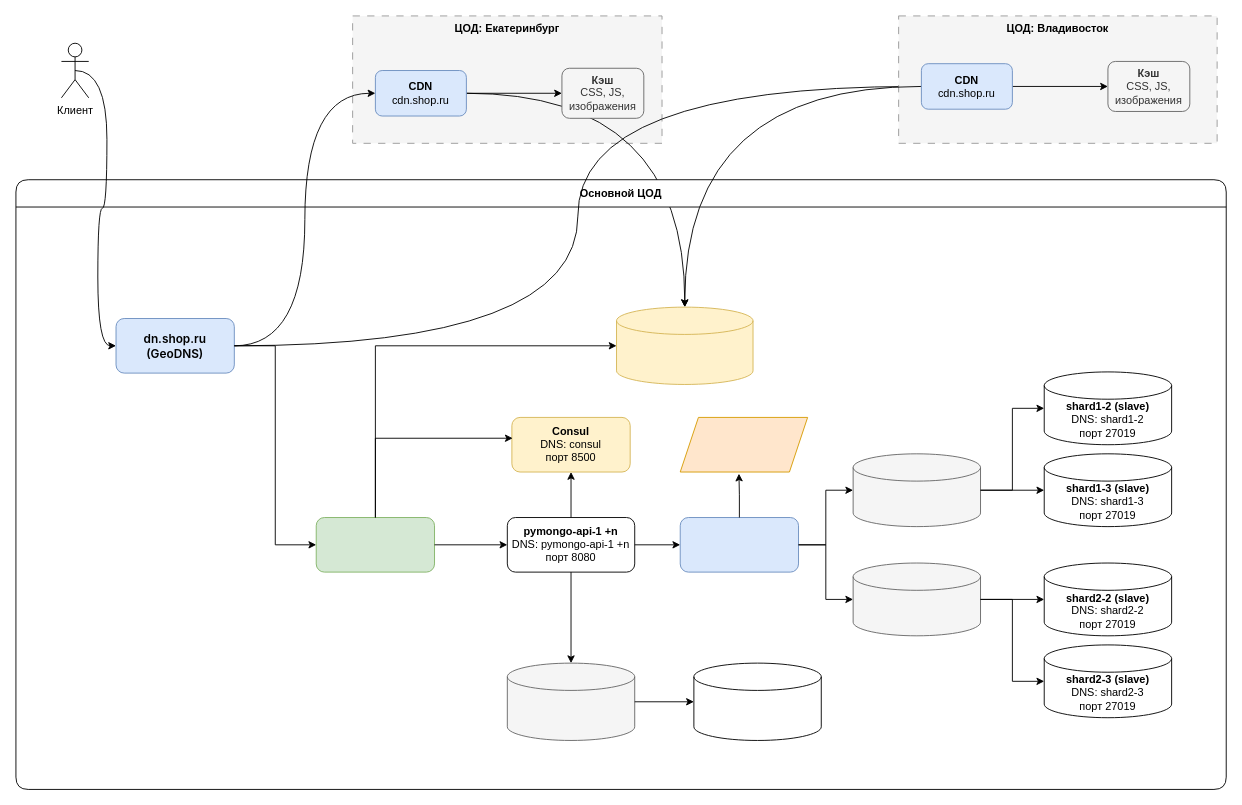
This 1242x805 diagram has some shape labels left out. Here are the shapes that lost their labels. From the top down, the centre of each, then its label:
At pixel 684 345: "Object Storage static.shop.ru статический контент".
At pixel 743 444: "configSrv DNS: configSrv порт 27017".
At pixel 916 490: "shard1-1 (master) DNS: shard1-1 порт 27019".
At pixel 375 544: "APISIX Gateway DNS: apisix порт 9080".
At pixel 739 544: "mongos_router DNS: mongos-router порт 27020".
At pixel 916 599: "shard2-1 (master) DNS: shard2-1 порт 27019".
At pixel 570 701: "redis_1 (master) DNS: redis-1 порт 6379".
At pixel 757 701: "redis_2 (replica) DNS: redis-2 порт 6379".
